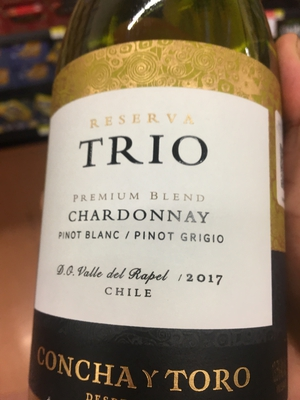trio chardonnay: (31, 36, 290, 400)
